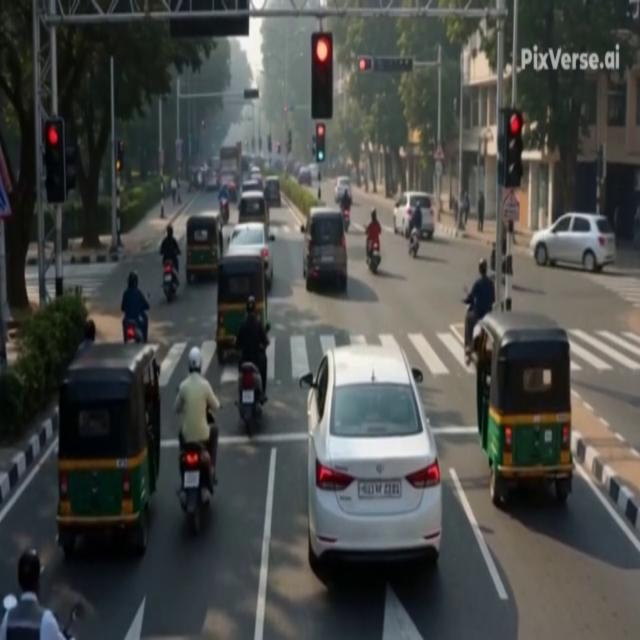car: (299, 345, 442, 573), (530, 213, 616, 271), (301, 207, 347, 291), (226, 223, 274, 290), (393, 192, 435, 239), (265, 176, 281, 207), (335, 176, 351, 203), (298, 168, 312, 186), (242, 180, 262, 192), (249, 174, 263, 189), (309, 164, 319, 181)
scooty: (2, 594, 84, 640), (178, 443, 215, 535), (236, 362, 263, 436), (163, 261, 177, 303), (367, 241, 380, 273), (409, 229, 419, 258), (220, 199, 229, 224), (343, 208, 350, 232)
traffic signal: (311, 32, 333, 119), (44, 118, 66, 203), (500, 109, 523, 188), (65, 145, 76, 195), (316, 123, 325, 162), (116, 140, 124, 173), (358, 56, 373, 71), (287, 129, 292, 153), (267, 135, 271, 153), (312, 135, 315, 157), (251, 136, 255, 151), (276, 142, 280, 154), (258, 136, 261, 151), (201, 119, 205, 128)
truck: (219, 144, 241, 184)
